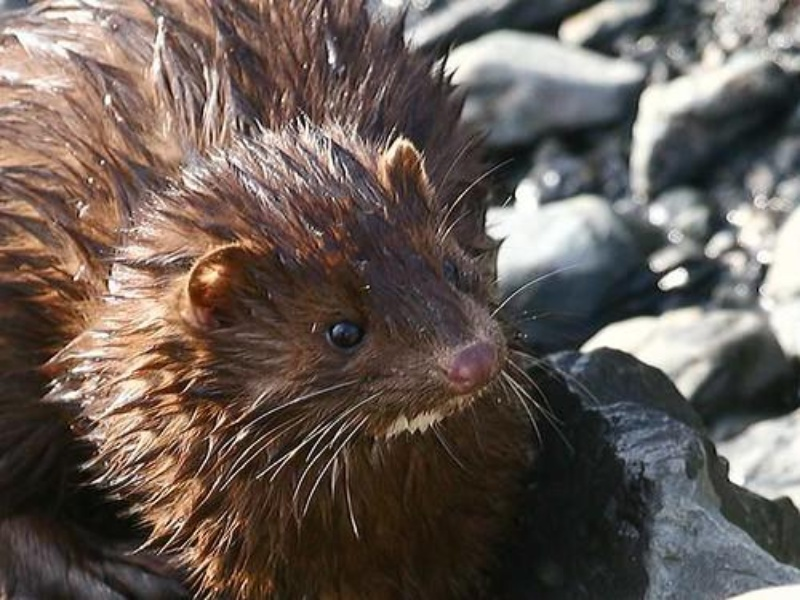minkish: (1, 3, 522, 588)
